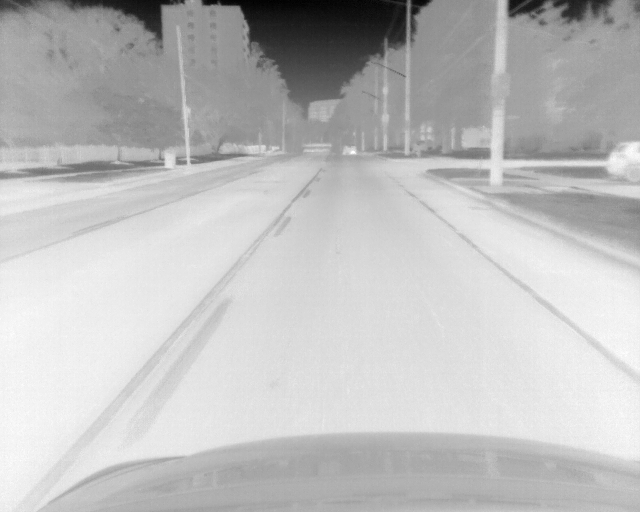car: (605, 140, 640, 183), (340, 144, 358, 157)
